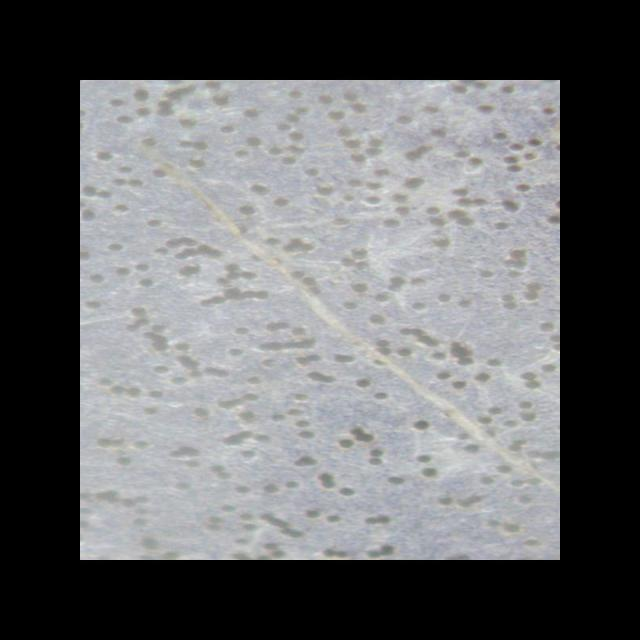Fibre: (155, 152, 560, 520)
